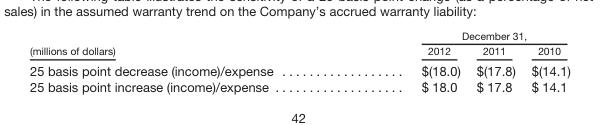table: (28, 28, 569, 93)
table column: (28, 28, 346, 93), (346, 28, 467, 93), (467, 28, 522, 93), (522, 28, 569, 93)
table column header: (28, 28, 569, 59)
table row: (28, 59, 569, 78), (28, 43, 569, 59), (28, 28, 569, 43), (28, 78, 569, 93)
table spanning cell: (28, 28, 346, 59), (346, 28, 569, 43)
